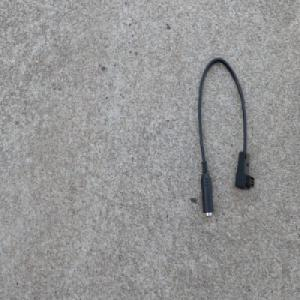Wire: (197, 54, 255, 219)
